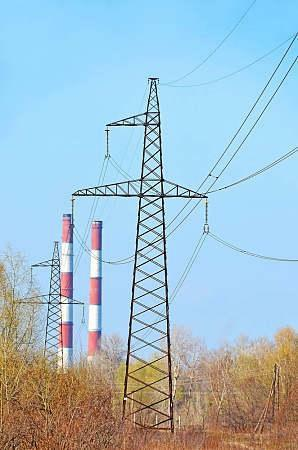power_tower: (70, 67, 211, 429), (21, 240, 86, 377)
